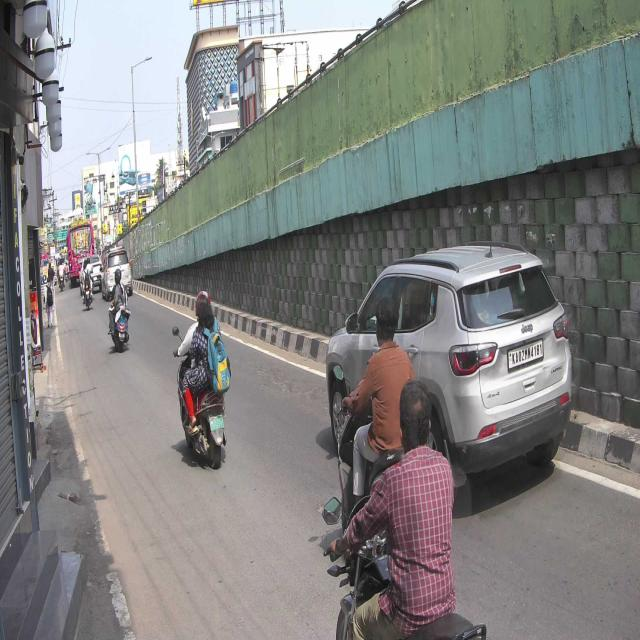double_rider: (171, 286, 230, 469)
single_rider: (337, 375, 487, 640)
